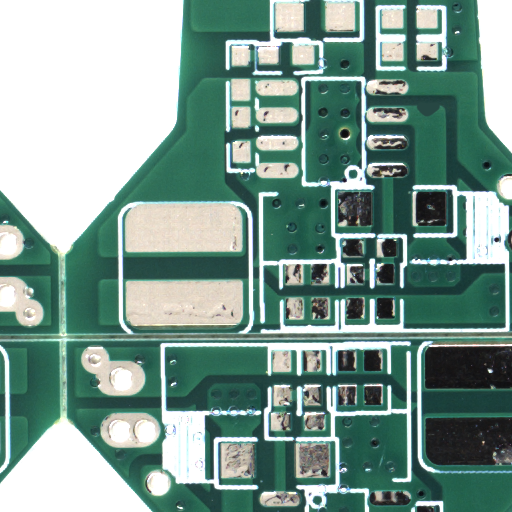Mouse_bite: (427, 111, 451, 125)
